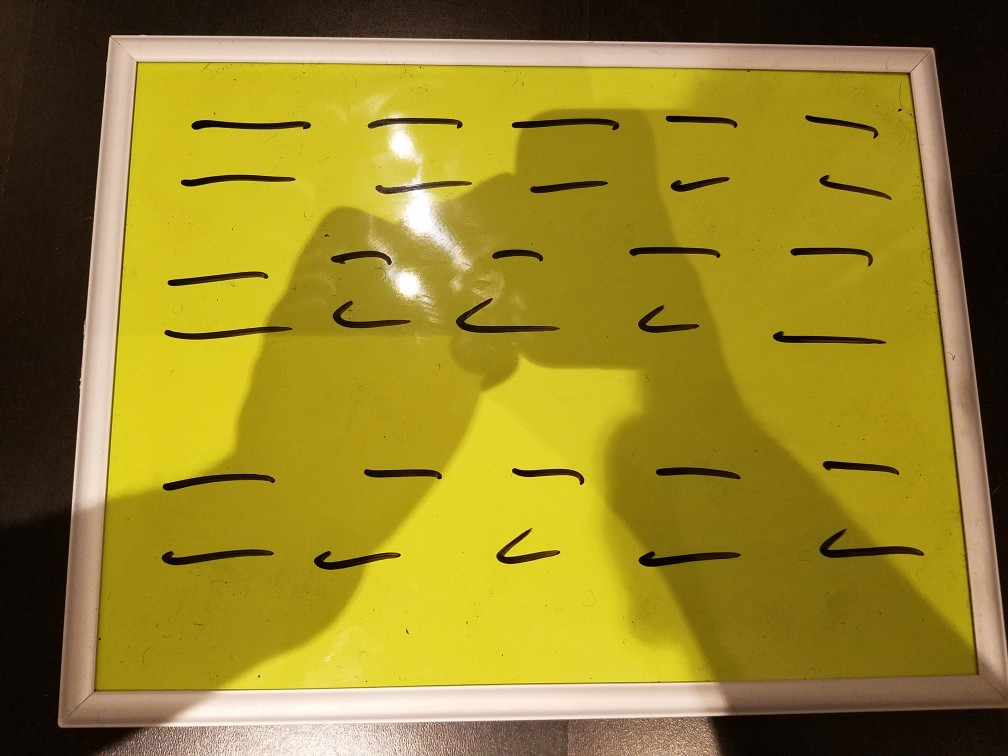=: (294, 448, 454, 597), (792, 442, 944, 593), (605, 439, 760, 581), (139, 440, 288, 587), (432, 232, 586, 364), (463, 439, 598, 588), (748, 228, 898, 362), (333, 97, 485, 207), (151, 256, 297, 363), (600, 232, 730, 352), (489, 105, 630, 213), (171, 98, 315, 201), (786, 94, 899, 209), (645, 97, 757, 206), (316, 236, 411, 350)
